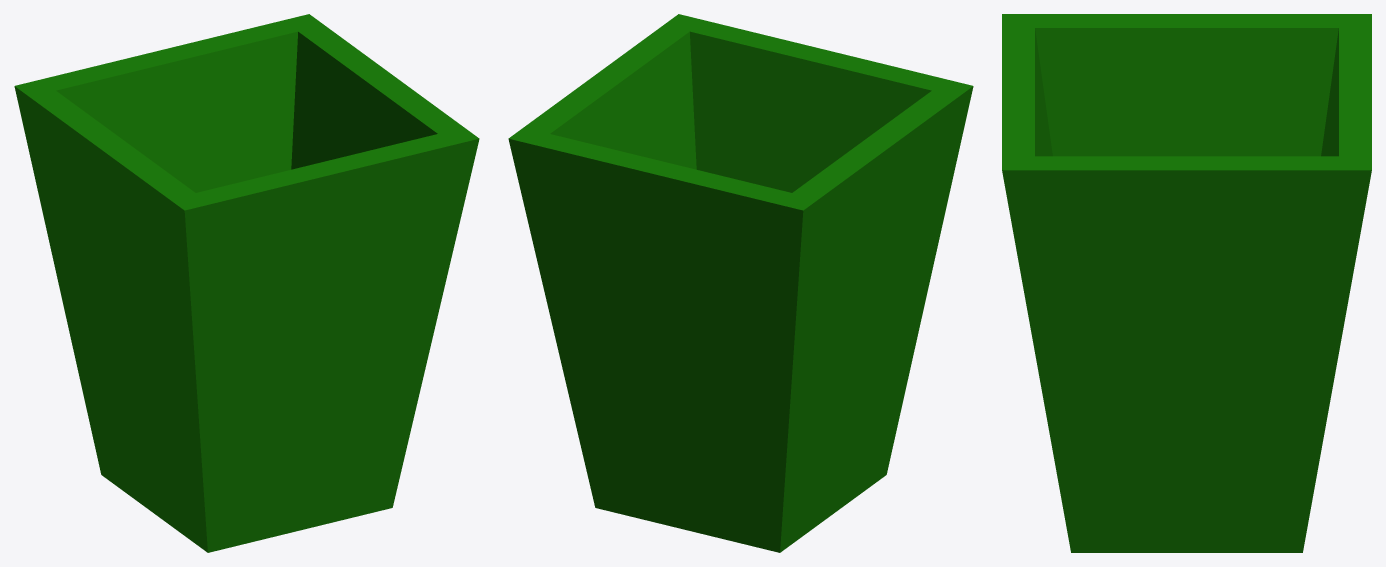
File: tempat sampah ijo.fbx
3 renders of one model, left to right at view 1: azimuth 30°, elevation 25°; view 2: azimuth 150°, elevation 25°; view 3: azimuth 270°, elevation 25°, orthographic. The views are drawn at different scales.
Visible parts, largest first — view 1: Cube; view 2: Cube; view 3: Cube.
Boxes of the visible parts, <box> form: Cube: <box>14,14,479,552</box>; Cube: <box>508,14,973,552</box>; Cube: <box>1002,14,1371,552</box>.
Bounding box in the file's own units: 178 × 219 × 178.
